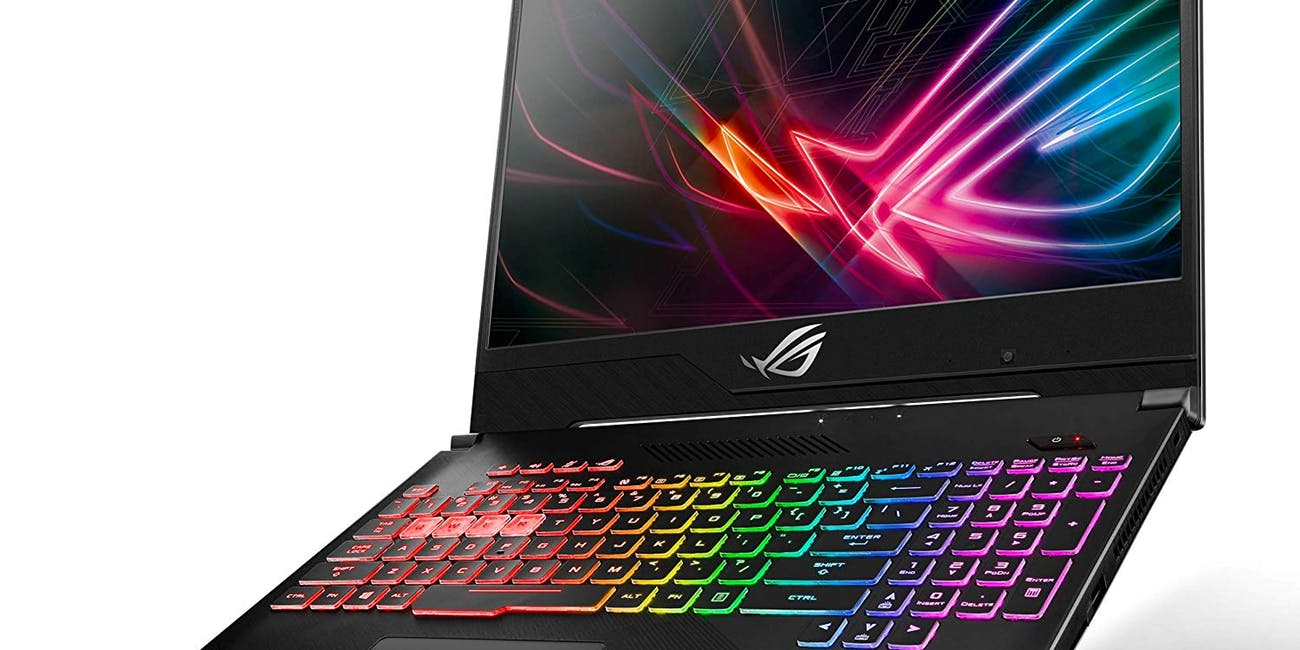Laptop: (183, 6, 1228, 650)
